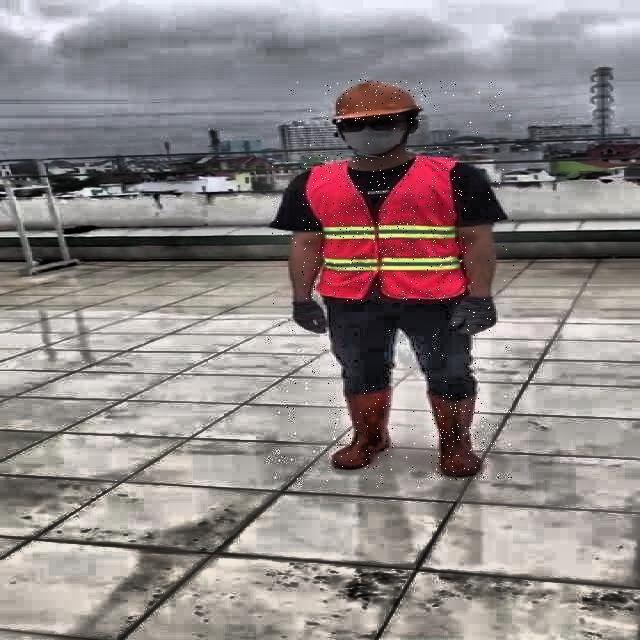safety_helmet: (325, 79, 426, 123)
safety_jacket: (302, 155, 466, 301)
